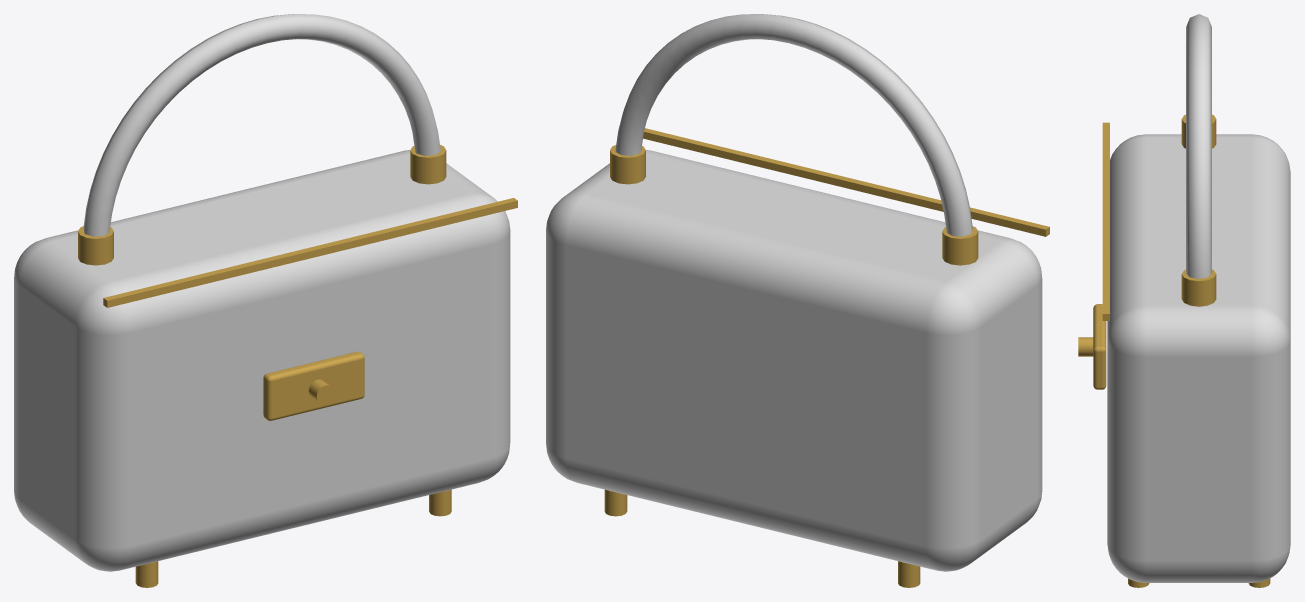
File: fashion-bag.glb
3 renders of one model, left to right at view 1: azimuth 30°, elevation 25°; view 2: azimuth 150°, elevation 25°; view 3: azimuth 270°, elevation 25°, orthographic. The views are drawn at different scales.
Visible parts, largest first — view 1: Body, Handle, ZipperRail, ClaspPlate, HandleCollar (×2); view 2: Body, Handle, ZipperRail, HandleCollar (×2); view 3: Body, Handle, ZipperRail, HandleCollar (×2), ClaspPlate, ClaspKnob.
Part boxes in pixels (left/top/right/bottom): Body: left=14, top=150, right=510, bottom=571; Handle: left=83, top=14, right=440, bottom=236; ZipperRail: left=103, top=198, right=517, bottom=307; ClaspPlate: left=263, top=351, right=364, bottom=420; HandleCollar (×2): left=78, top=145, right=446, bottom=265; Body: left=546, top=150, right=1042, bottom=571; Handle: left=615, top=14, right=972, bottom=236; ZipperRail: left=643, top=128, right=1049, bottom=236; HandleCollar (×2): left=610, top=145, right=978, bottom=265; Body: left=1107, top=134, right=1290, bottom=582; Handle: left=1186, top=14, right=1211, bottom=278; ZipperRail: left=1102, top=122, right=1109, bottom=320; HandleCollar (×2): left=1181, top=114, right=1216, bottom=306; ClaspPlate: left=1093, top=304, right=1106, bottom=389; ClaspKnob: left=1078, top=337, right=1093, bottom=356.
Bounding box in the file's own units: 2.32 × 2.6 × 1.04.
